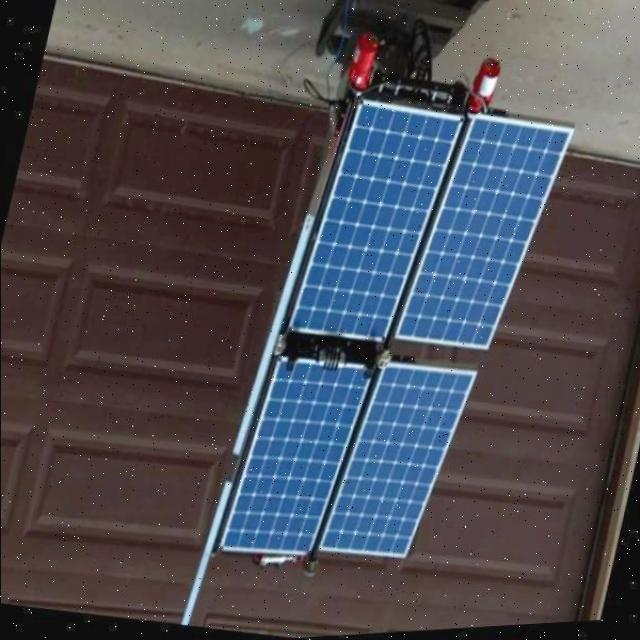Normal Solar Panel: (393, 111, 568, 366), (284, 100, 454, 354), (317, 358, 474, 576), (220, 357, 370, 572)
